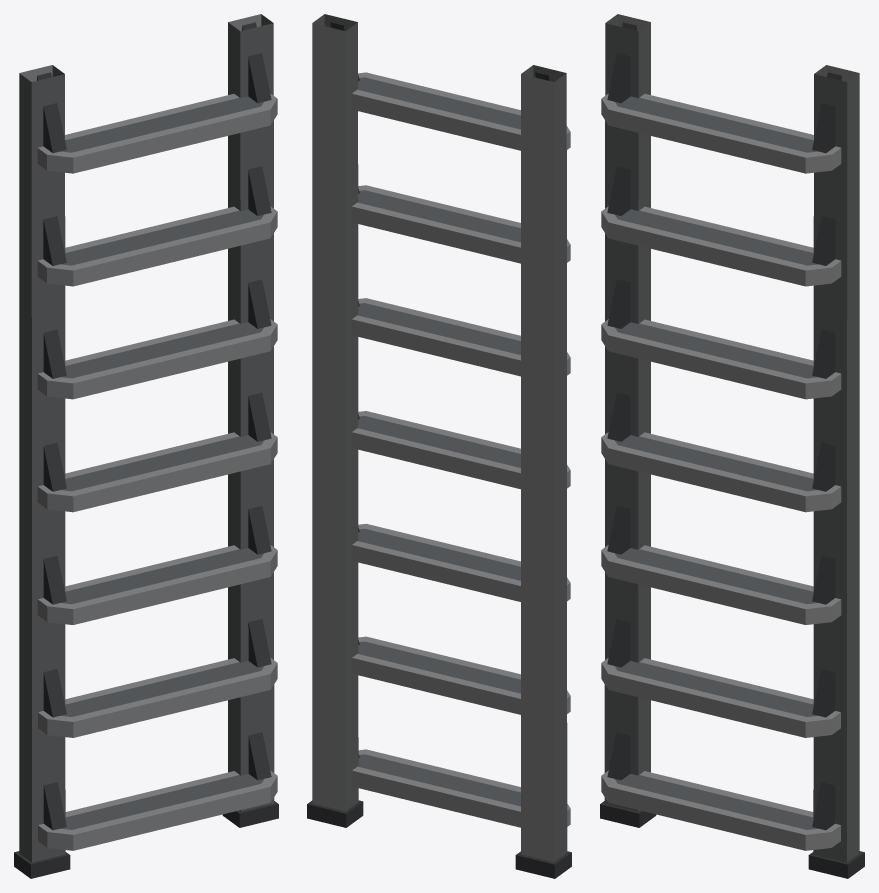
Rendered from Ladder_002.glb.
3 views of the same model, side by side, from view 1: azimuth 30°, elevation 25°; view 2: azimuth 150°, elevation 25°; view 3: azimuth 330°, elevation 25° (orthographic).
Parts seen in each view (by area): view 1: Ladder_002; view 2: Ladder_002; view 3: Ladder_002.
Boxes of the visible parts, box(x1,y1,x2,y2) form: Ladder_002: box(14, 14, 278, 878); Ladder_002: box(307, 14, 571, 878); Ladder_002: box(600, 14, 864, 878).
Size of the model in its own units: 1.19 by 3.64 by 0.2822.
1 material, 1 textured.
